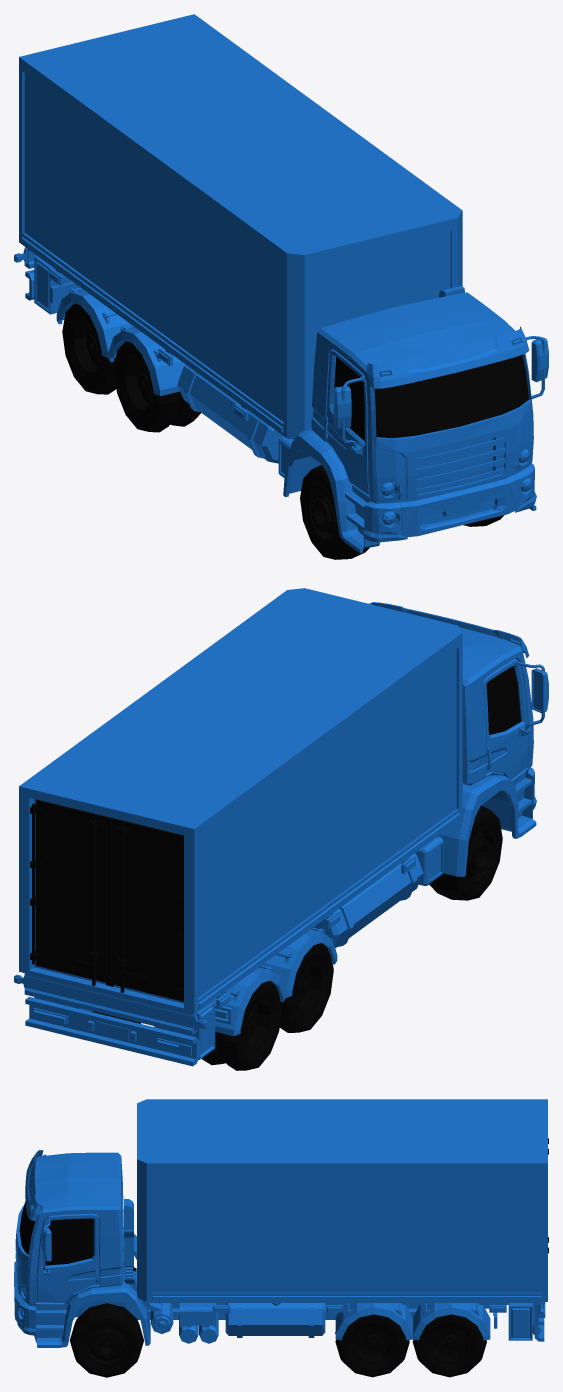
File: HALF_truck_1.fbx
3 views of the same model, one above another, from view 1: azimuth 30°, elevation 25°; view 2: azimuth 150°, elevation 25°; view 3: azimuth 270°, elevation 25° (orthographic). The views are drawn at different scales.
Visible parts, largest first — view 1: Symmetry_15, Oil_Tank_3, Oil_Tank_4, Oil_Tank_2; view 2: Symmetry_15, Symmetry_16, Symmetry_14, Oil_Tank_4, Oil_Tank_2, Oil_Tank_3; view 3: Symmetry_15, Oil_Tank_1, Oil_Tank_3, Oil_Tank_4.
Part boxes in pixels (left/top/right/bottom): Symmetry_15: left=14, top=14, right=548, bottom=553; Oil_Tank_3: left=114, top=341, right=200, bottom=432; Oil_Tank_4: left=62, top=303, right=116, bottom=394; Oil_Tank_2: left=300, top=465, right=369, bottom=559; Symmetry_15: left=14, top=588, right=548, bottom=1066; Symmetry_16: left=30, top=799, right=108, bottom=985; Symmetry_14: left=108, top=817, right=183, bottom=1001; Oil_Tank_4: left=92, top=980, right=282, bottom=1070; Oil_Tank_2: left=429, top=805, right=502, bottom=900; Oil_Tank_3: left=279, top=943, right=333, bottom=1032; Symmetry_15: left=14, top=1099, right=547, bottom=1347; Oil_Tank_1: left=70, top=1303, right=143, bottom=1377; Oil_Tank_3: left=335, top=1314, right=409, bottom=1377; Oil_Tank_4: left=412, top=1314, right=486, bottom=1377.
Bounding box in the file's own units: 295 × 383 × 857.
